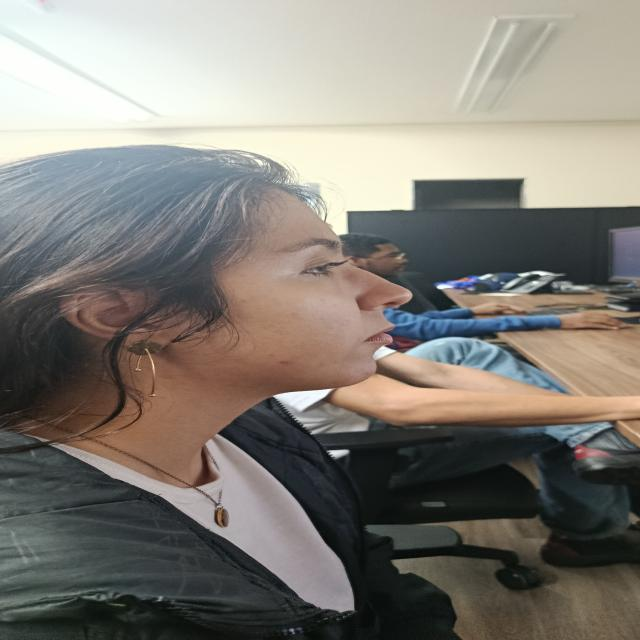sem_oculos: (73, 246, 395, 299)
